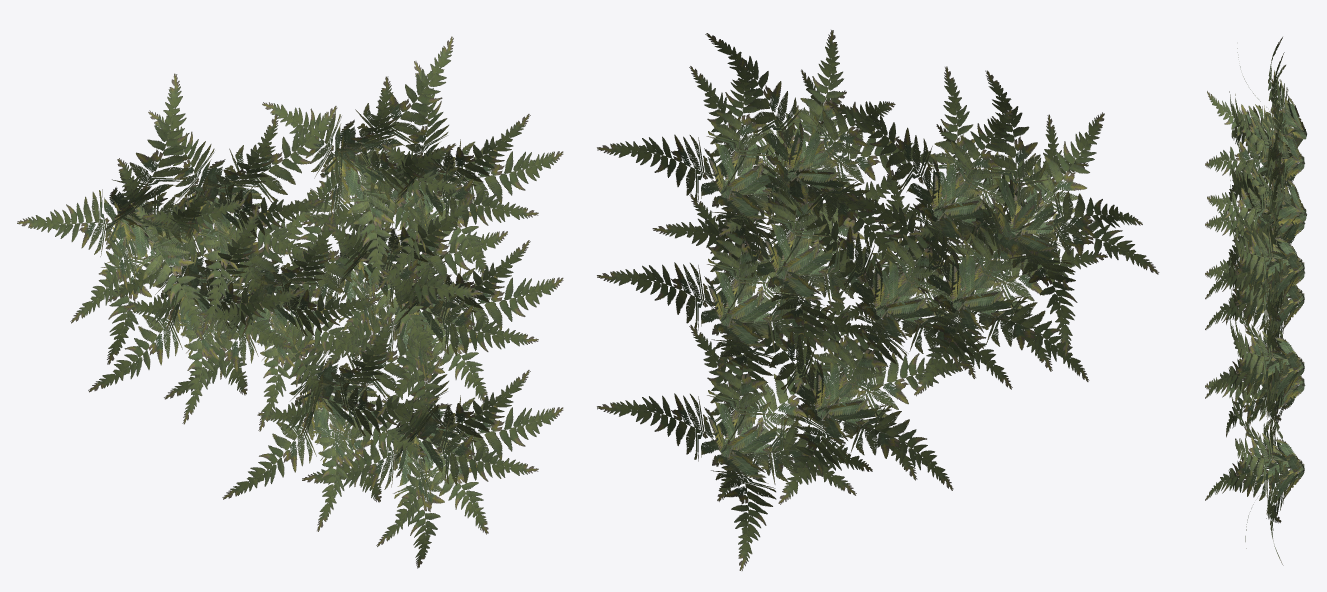
File: FModel1.gltf
3 views of the same model, side by side, from view 1: azimuth 30°, elevation 25°; view 2: azimuth 150°, elevation 25°; view 3: azimuth 270°, elevation 25° (orthographic). The views are drawn at different scales.
Visible parts, largest first — view 1: name; view 2: name; view 3: name.
Boxes of the visible parts, <box> form: name: <box>17,36,563,568</box>; name: <box>597,30,1159,570</box>; name: <box>1205,37,1306,565</box>.
Bounding box in the file's own units: 15.27 × 15 × 3.36.
Materials: 1 (1 with a texture image).
